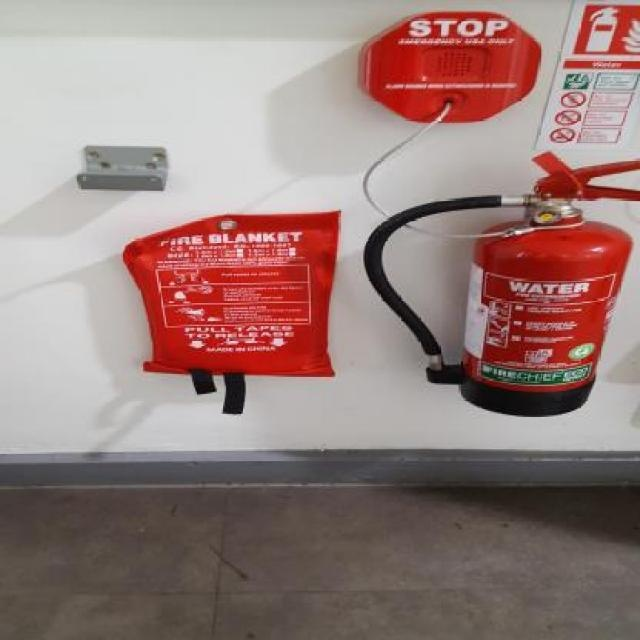fire extinguisher: (362, 149, 638, 418)
